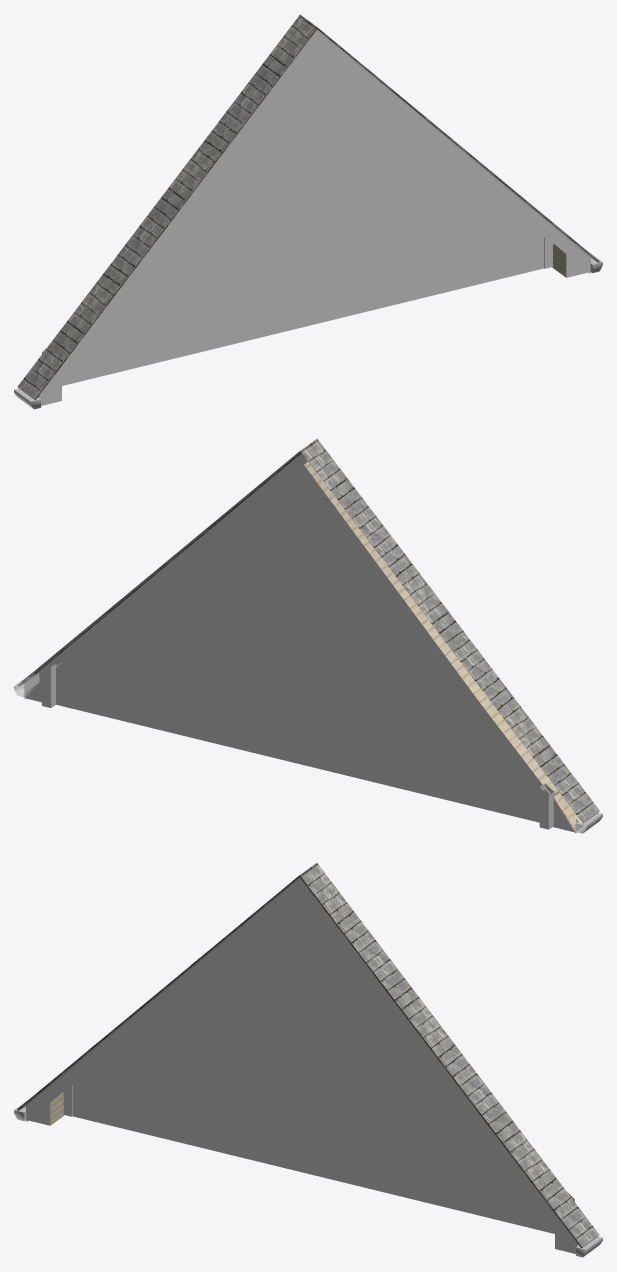
The model's file is Roof_End_7x.FBX.
The picture shows the model from 3 angles, top to bottom: view 1: azimuth 30°, elevation 25°; view 2: azimuth 150°, elevation 25°; view 3: azimuth 330°, elevation 25°; orthographic projection.
Parts seen in each view (by area): view 1: Roof_End_7x; view 2: Roof_End_7x; view 3: Roof_End_7x.
Part boxes in pixels (x1,y1,x2,y2): Roof_End_7x: [14, 14, 602, 409]; Roof_End_7x: [14, 438, 602, 833]; Roof_End_7x: [14, 862, 602, 1257].
Bounding box in the file's own units: 794 × 418 × 52.41.
